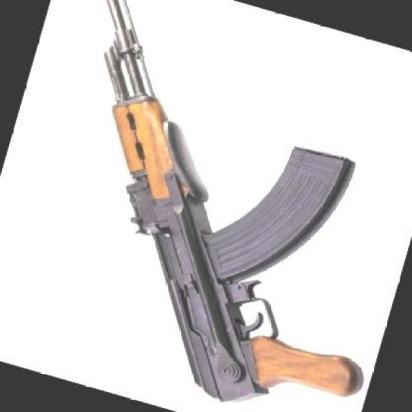Gun: (102, 0, 357, 402)
